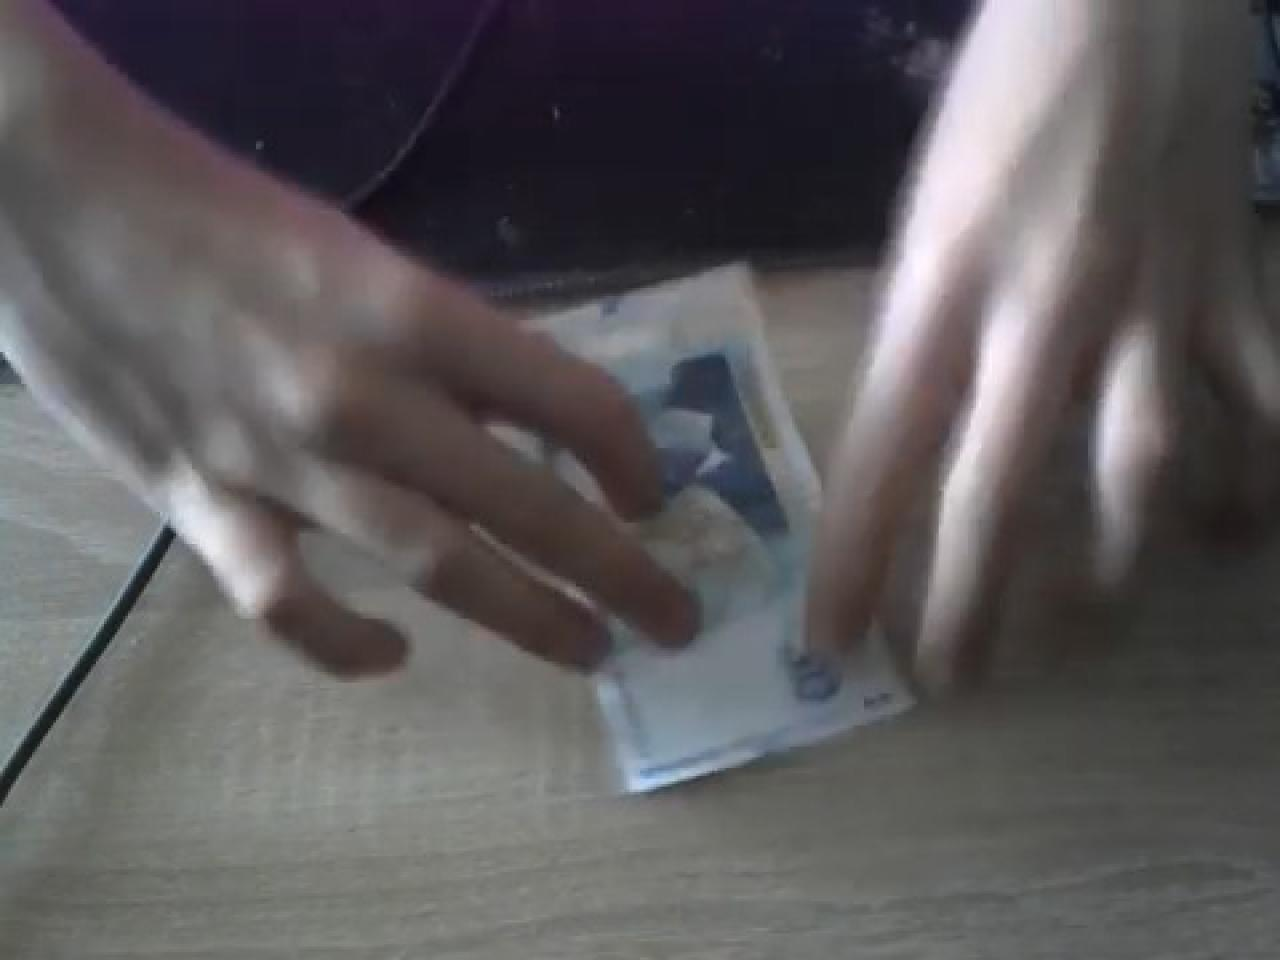20leva: (517, 264, 912, 795)
